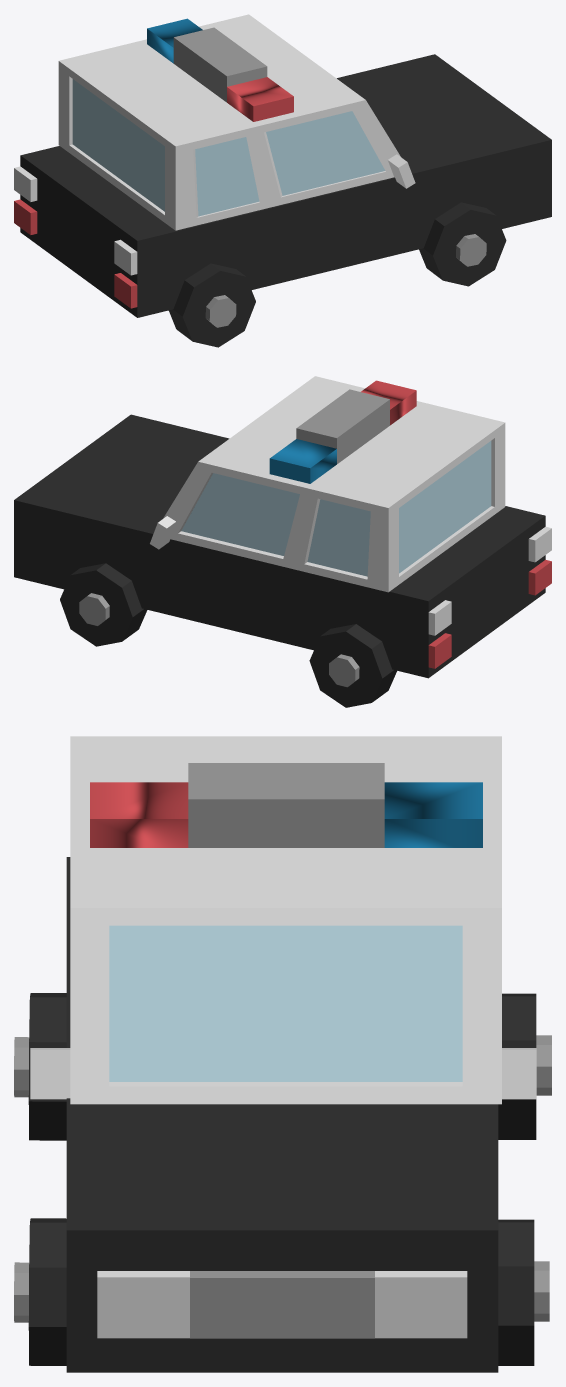
File: Cop.fbx
3 renders of one model, top to bottom at view 1: azimuth 30°, elevation 25°; view 2: azimuth 150°, elevation 25°; view 3: azimuth 270°, elevation 25°, orthographic. The views are drawn at different scales.
Parts seen in each view (by area): view 1: Body, wheel0, wheel1; view 2: Body, wheel3, wheel2; view 3: Body, wheel0, wheel2, wheel1, wheel3.
Part boxes in pixels (bbox=[...]): Body: bbox=[14, 14, 551, 317]; wheel0: bbox=[419, 202, 506, 286]; wheel1: bbox=[168, 263, 255, 347]; Body: bbox=[14, 376, 551, 678]; wheel3: bbox=[309, 624, 396, 707]; wheel2: bbox=[60, 563, 147, 646]; Body: bbox=[30, 736, 536, 1372]; wheel0: bbox=[14, 1218, 66, 1365]; wheel2: bbox=[498, 1219, 549, 1365]; wheel1: bbox=[14, 993, 66, 1140]; wheel3: bbox=[498, 993, 551, 1139].
Size of the model in its own units: 423 by 215 by 249.
